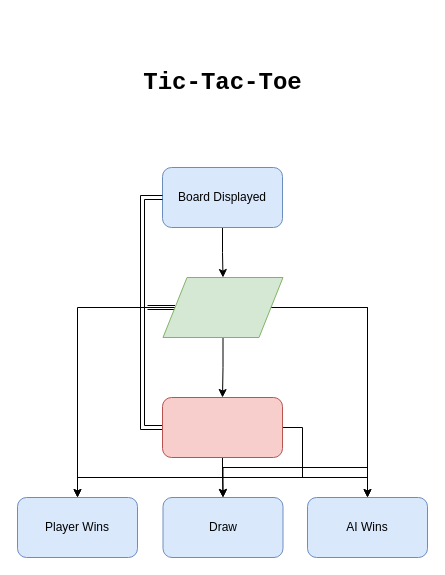
Image size: 445x575. Some labels were removed from this diagram. Each missing label, with the centre of its shape:
"AI randomly picks available slot on the board" goes at point (222, 427).
"User picks placement on board" goes at point (222, 307).
